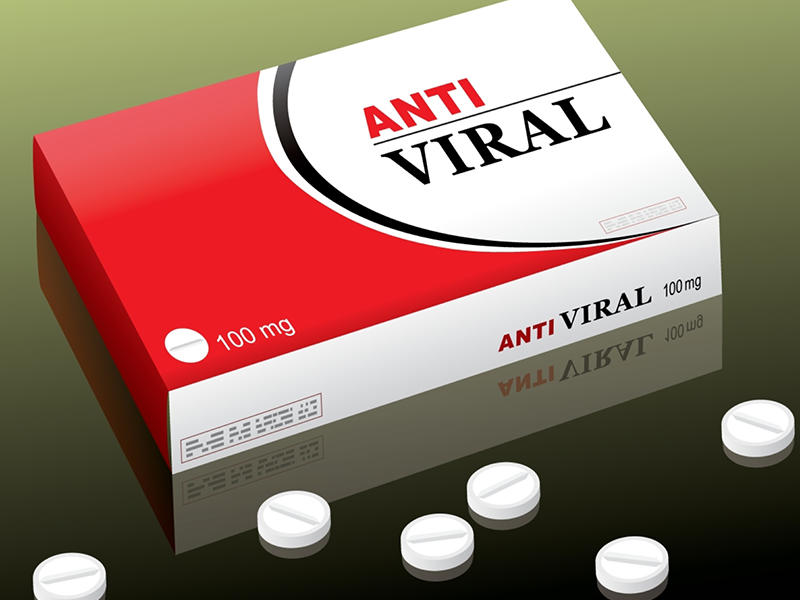Medicine: (28, 3, 738, 472)
